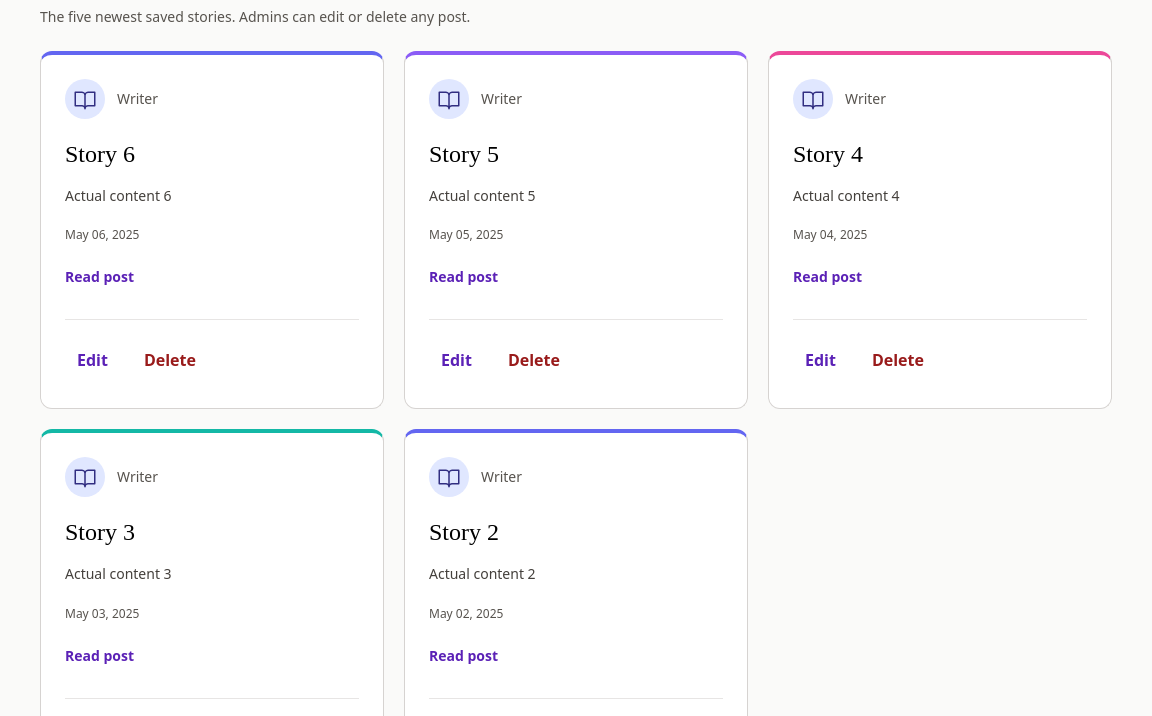
Test: AdminDashboard › reports failed accounts rereads only after a successful delete
The image size is (1152, 716).
(page scrolled)
Click the button "Delete" below "May 06, 2025" at (170, 360), box [132,336,208,384]
(page scrolled)
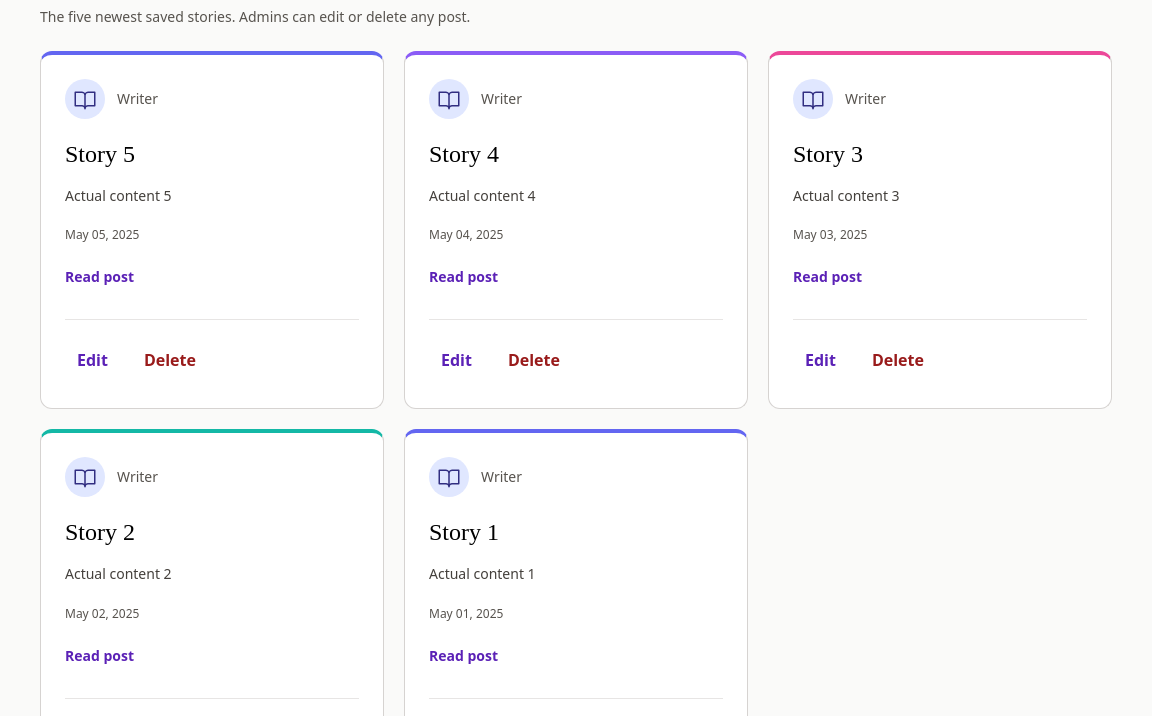
Check: the link "Story 6" is gone
Check: the heading "Story 1" is shown, box [429,519,499,545]
